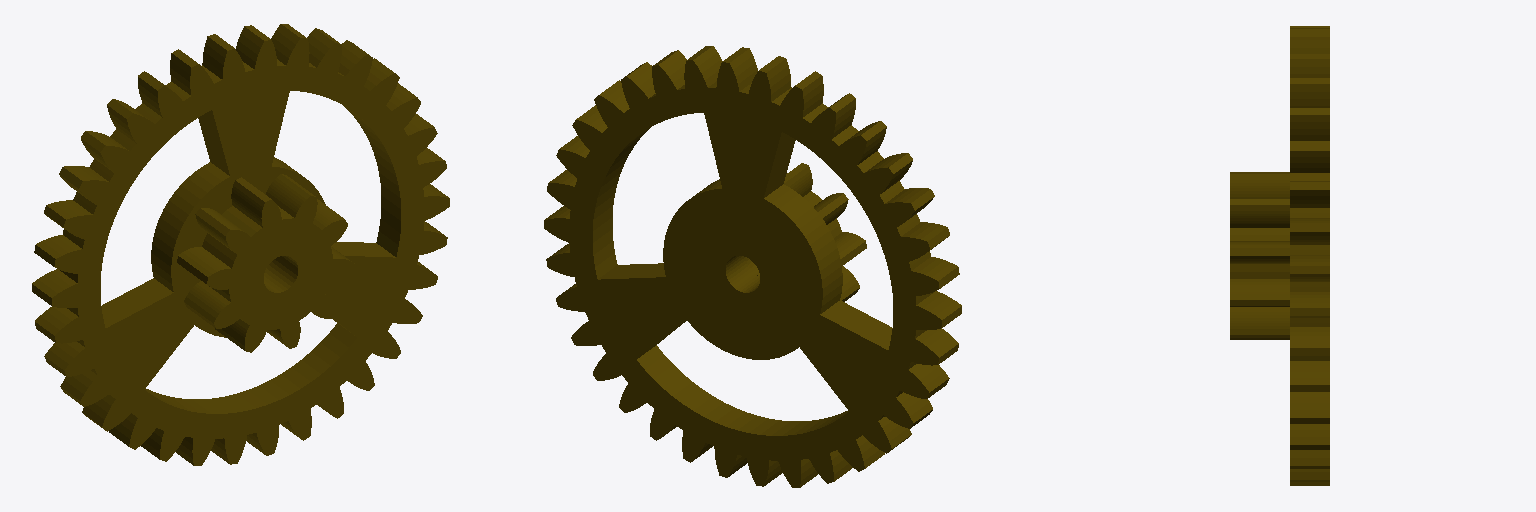
The model's file is gear3.obj.
3 renders of one model, left to right at view 1: azimuth 30°, elevation 25°; view 2: azimuth 150°, elevation 25°; view 3: azimuth 270°, elevation 25°, orthographic.
Visible parts, largest first — view 1: Gearing.005; view 2: Gearing.005; view 3: Gearing.005.
Boxes of the visible parts, <box> form: Gearing.005: <box>32,24,449,465</box>; Gearing.005: <box>544,46,961,487</box>; Gearing.005: <box>1230,26,1329,485</box>.
Bounding box in the file's own units: 1.81 × 1.8 × 0.3937.